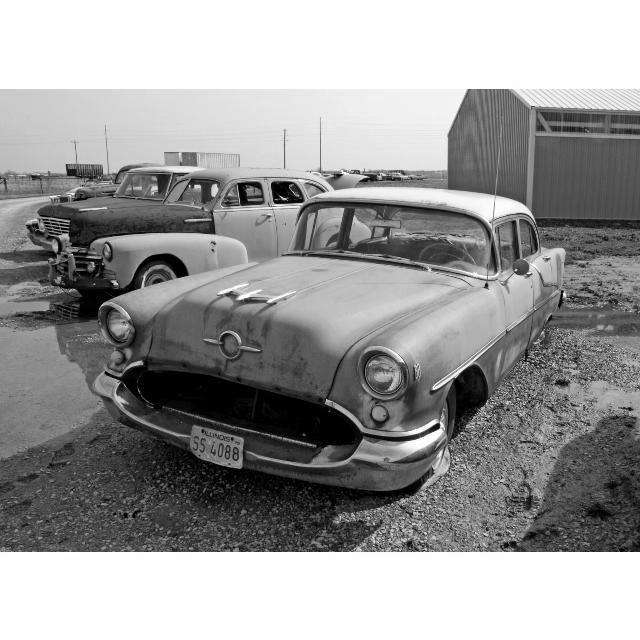quaterpanel-dent: (127, 358, 357, 467)
